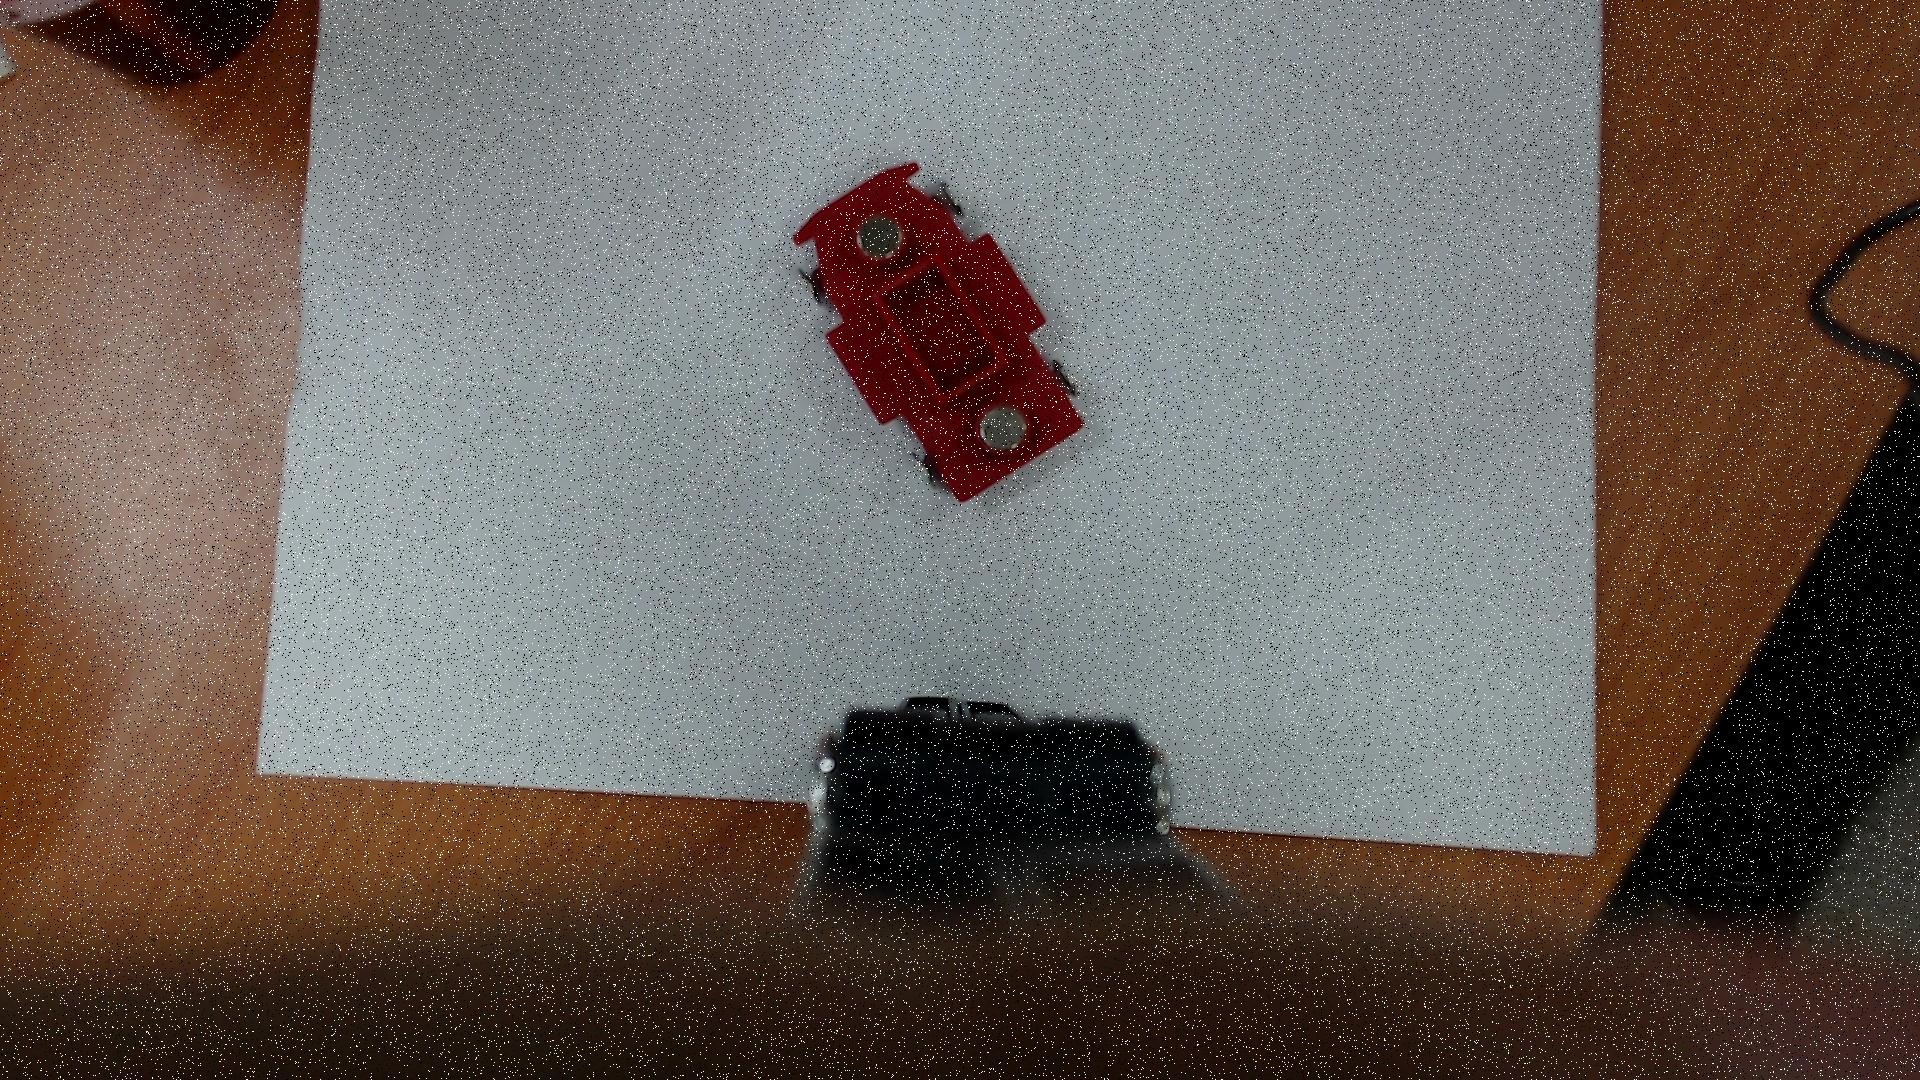lower_ok: (864, 247, 1019, 418)
